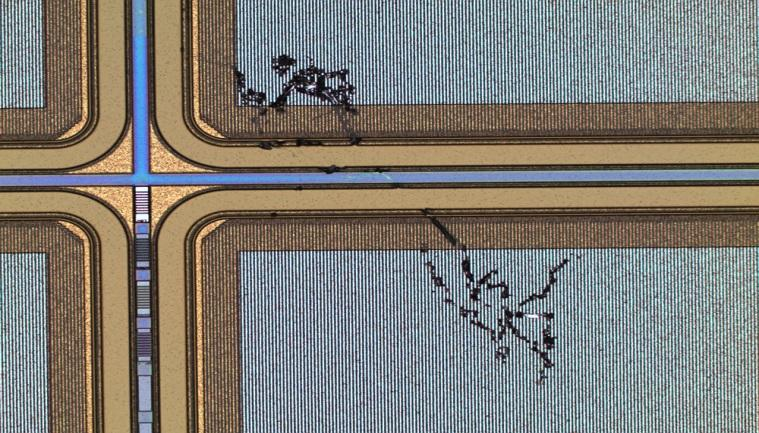SCRATCH: (215, 44, 589, 400)
